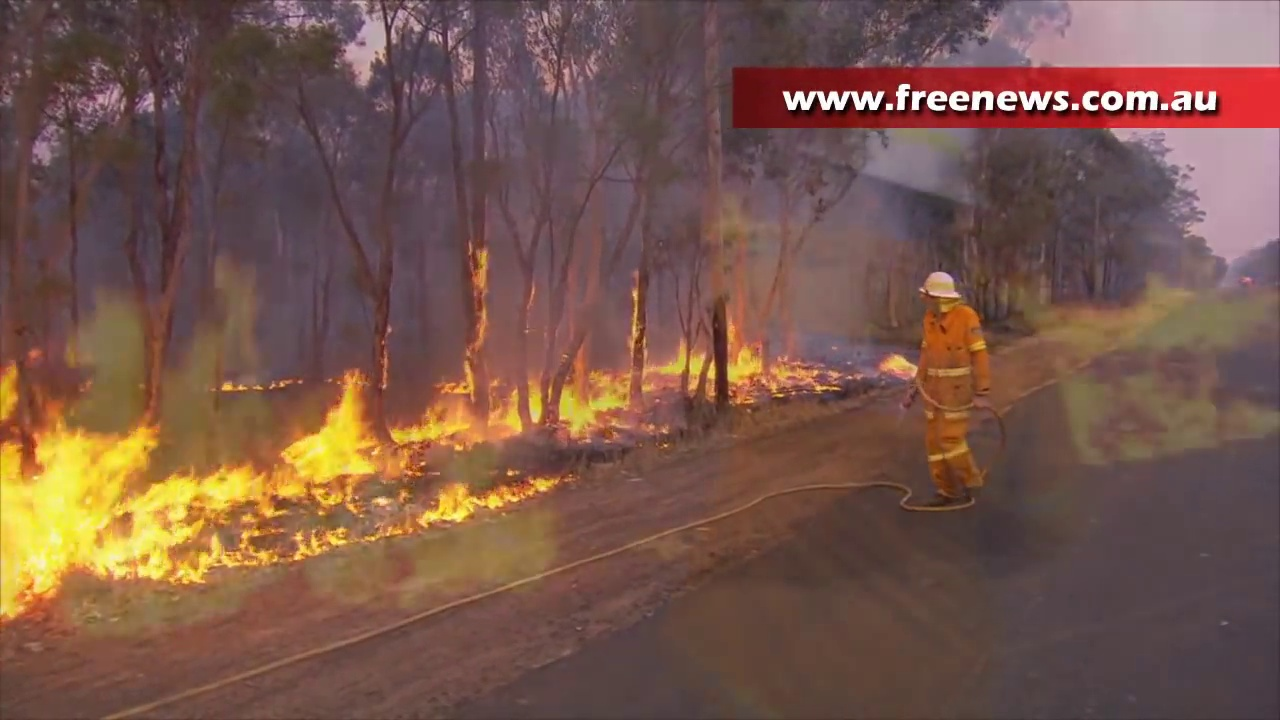fire: (1, 424, 266, 615), (282, 375, 383, 502), (683, 346, 823, 400), (409, 380, 513, 438), (561, 375, 632, 424), (468, 251, 492, 347), (426, 483, 489, 517), (292, 531, 343, 551), (885, 353, 914, 377)
